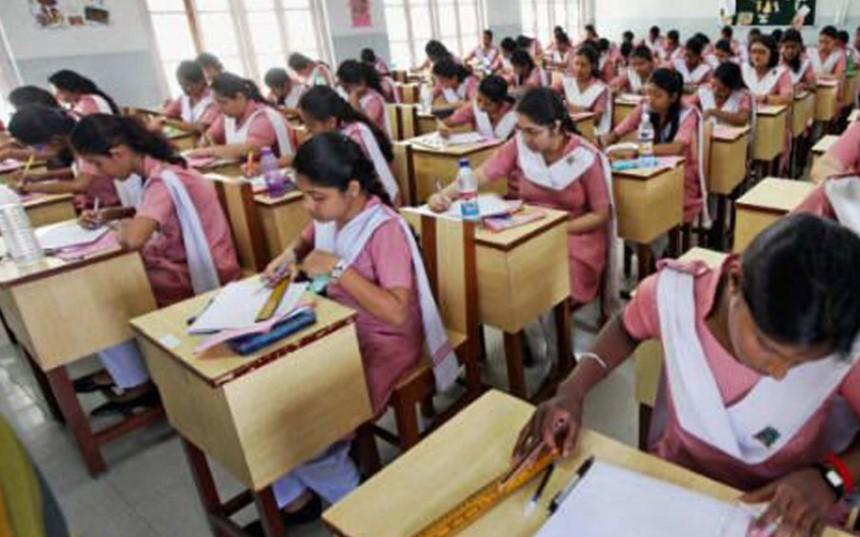student: (498, 213, 858, 537), (170, 129, 427, 357), (11, 102, 208, 274), (412, 82, 626, 237), (604, 80, 720, 186), (198, 68, 295, 176), (416, 75, 523, 154), (689, 56, 765, 139), (737, 35, 794, 113)
